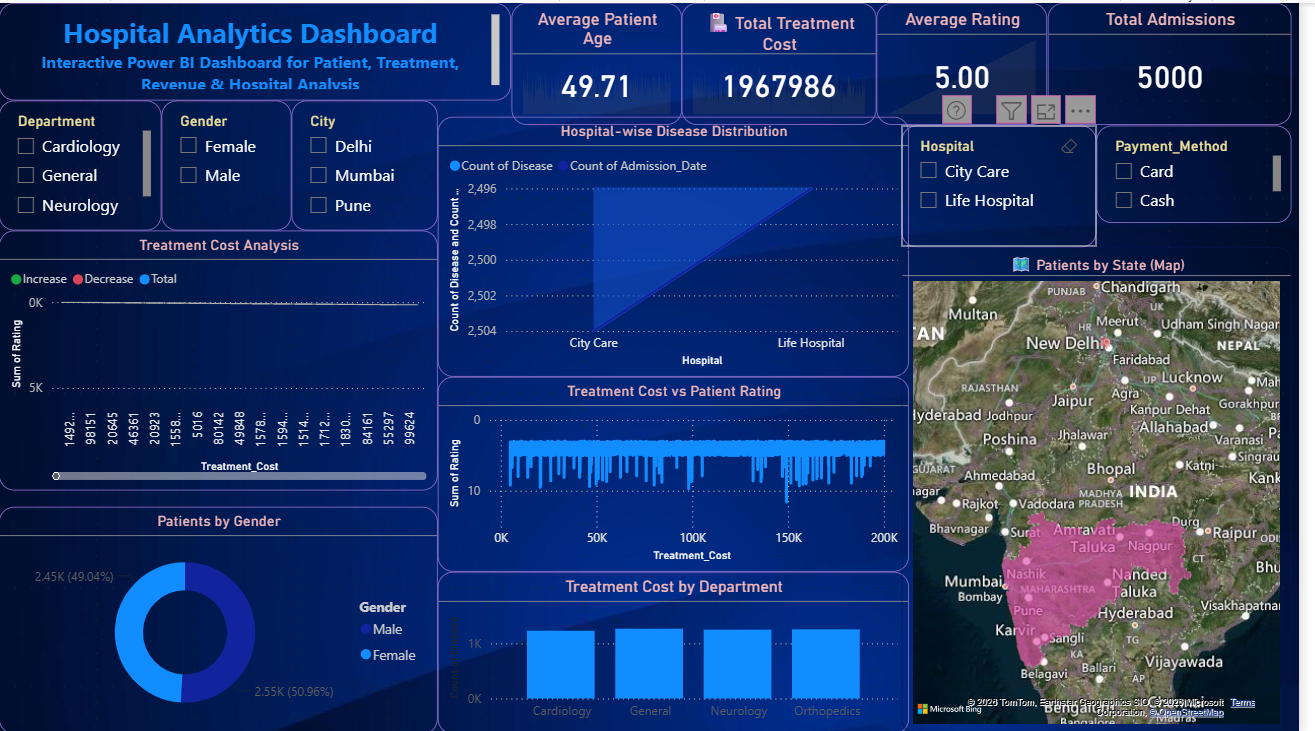

Layout of this report page (visuals, bound fields, positions):
{"tool":"powerbi","page":{"name":"Page 1","canvas":[1280,720],"ordinal":0},"visuals":[{"type":"lineStackedColumnComboChart","title":"Treatment Cost by Department","fields":{"Category":["Sheet.Department","Sheet.Gender"],"Y":["CountNonNull(Sheet.Disease)"]},"box":[432,560,464,160],"z":0},{"type":"areaChart","title":"Hospital-wise Disease Distribution","fields":{"Category":["Sheet.City","Sheet.Hospital"],"Y":["CountNonNull(Sheet.Disease)","CountNonNull(Sheet.Admission_Date)"]},"box":[432,112,464,256],"z":1000},{"type":"donutChart","title":"Patients by Gender","fields":{"Category":["Sheet.Gender"],"Y":["CountNonNull(Sheet.Patient_ID)"]},"box":[0,496,432,224],"z":2000},{"type":"waterfallChart","title":"Treatment Cost Analysis","fields":{"Category":["Sheet.Treatment_Cost","Sheet.State","Sheet.Hospital","Sheet.Disease"],"Y":["Sum(Sheet.Rating)"]},"box":[0,224,432,256],"z":3000},{"type":"lineChart","title":"Treatment Cost vs Patient Rating","fields":{"Category":["Sheet.Treatment_Cost","Sheet.State","Sheet.Hospital"],"Y":["Sum(Sheet.Rating)"]},"box":[432,368,464,192],"z":4000},{"type":"textbox","box":[0,0,504,96],"z":5000},{"type":"slicer","fields":{"Values":["Sheet.City"]},"box":[288,96,144,128],"z":6000},{"type":"kpi","title":"🏥 Total Treatment Cost","fields":{"Indicator":["Sum(Sheet.Treatment_Cost)"],"TrendLine":["Sheet.Admission_Date"]},"box":[672,0,192,120],"z":7000},{"type":"kpi","title":"Total Admissions","fields":{"Indicator":["CountNonNull(Sheet.Admission_Date)1"],"TrendLine":["Sheet.Admission_Date.Variation.Date Hierarchy.Year"]},"box":[1032,0,240,120],"z":8000},{"type":"kpi","title":"Average Patient Age","fields":{"TrendLine":["Sheet.Admission_Date"],"Indicator":["Avg(Sheet.Age)"]},"box":[504,0,168,120],"z":9000},{"type":"kpi","title":"Average Rating","fields":{"Indicator":["Avg(Sheet.Rating)"],"TrendLine":["Sheet.Rating"]},"box":[864,0,168,120],"z":10000},{"type":"slicer","fields":{"Values":["Sheet.Hospital"]},"box":[888,120,192,120],"z":12000},{"type":"slicer","fields":{"Values":["Sheet.Payment_Method"]},"box":[1080,120,192,96],"z":13000},{"type":"slicer","fields":{"Values":["Sheet.Department"]},"box":[0,96,160,128],"z":14000},{"type":"slicer","fields":{"Values":["Sheet.Gender"]},"box":[160,96,128,128],"z":15000},{"type":"filledMap","title":"🗺️ Patients by State (Map)","fields":{"Category":["Sheet.State"]},"box":[888,240,384,480],"z":16000}]}

Visuals, with their boxes in screenshot pixels (x1, y1, x2, y2), scaled from the page's 1280x720 canvas onto the 1315x731 screenshot:
"Treatment Cost by Department" lineStackedColumnComboChart: x1=444 y1=569 x2=920 y2=730
"Hospital-wise Disease Distribution" areaChart: x1=444 y1=114 x2=920 y2=374
"Patients by Gender" donutChart: x1=0 y1=504 x2=444 y2=730
"Treatment Cost Analysis" waterfallChart: x1=0 y1=227 x2=444 y2=487
"Treatment Cost vs Patient Rating" lineChart: x1=444 y1=374 x2=920 y2=569
textbox: x1=0 y1=0 x2=518 y2=97
slicer - Sheet.City: x1=296 y1=97 x2=444 y2=227
"🏥 Total Treatment Cost" kpi: x1=690 y1=0 x2=888 y2=122
"Total Admissions" kpi: x1=1060 y1=0 x2=1307 y2=122
"Average Patient Age" kpi: x1=518 y1=0 x2=690 y2=122
"Average Rating" kpi: x1=888 y1=0 x2=1060 y2=122
slicer - Sheet.Hospital: x1=912 y1=122 x2=1110 y2=244
slicer - Sheet.Payment_Method: x1=1110 y1=122 x2=1307 y2=219
slicer - Sheet.Department: x1=0 y1=97 x2=164 y2=227
slicer - Sheet.Gender: x1=164 y1=97 x2=296 y2=227
"🗺️ Patients by State (Map)" filledMap: x1=912 y1=244 x2=1307 y2=730
